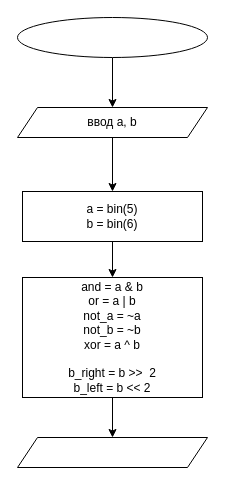
Some shapes in this 225 by 485 pixel diagram are drawn without their labels. Here are the shapes that lost their labels. From the top down, the centre of each, then its label:
At (112,37): "Начало алгоритма".
At (112,452): "вывод".
